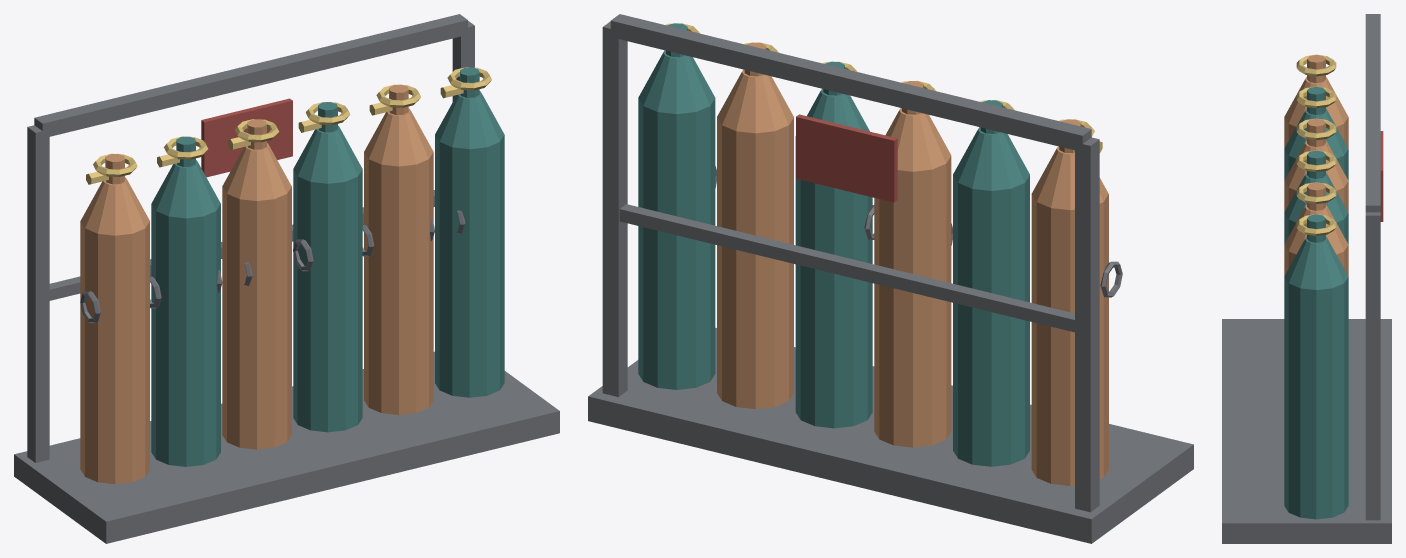
The picture shows the model from 3 angles, left to right: view 1: azimuth 30°, elevation 25°; view 2: azimuth 150°, elevation 25°; view 3: azimuth 270°, elevation 25°; orthographic projection. The views are drawn at different scales.
Parts seen in each view (by area): view 1: gas-cylinder-rack; view 2: gas-cylinder-rack; view 3: gas-cylinder-rack.
Boxes of the visible parts, x1=… form: gas-cylinder-rack: x1=14, y1=14, x2=559, y2=543; gas-cylinder-rack: x1=588, y1=14, x2=1193, y2=543; gas-cylinder-rack: x1=1222, y1=14, x2=1391, y2=543.
Size of the model in its own units: 2.56 by 1.94 by 0.9001.
